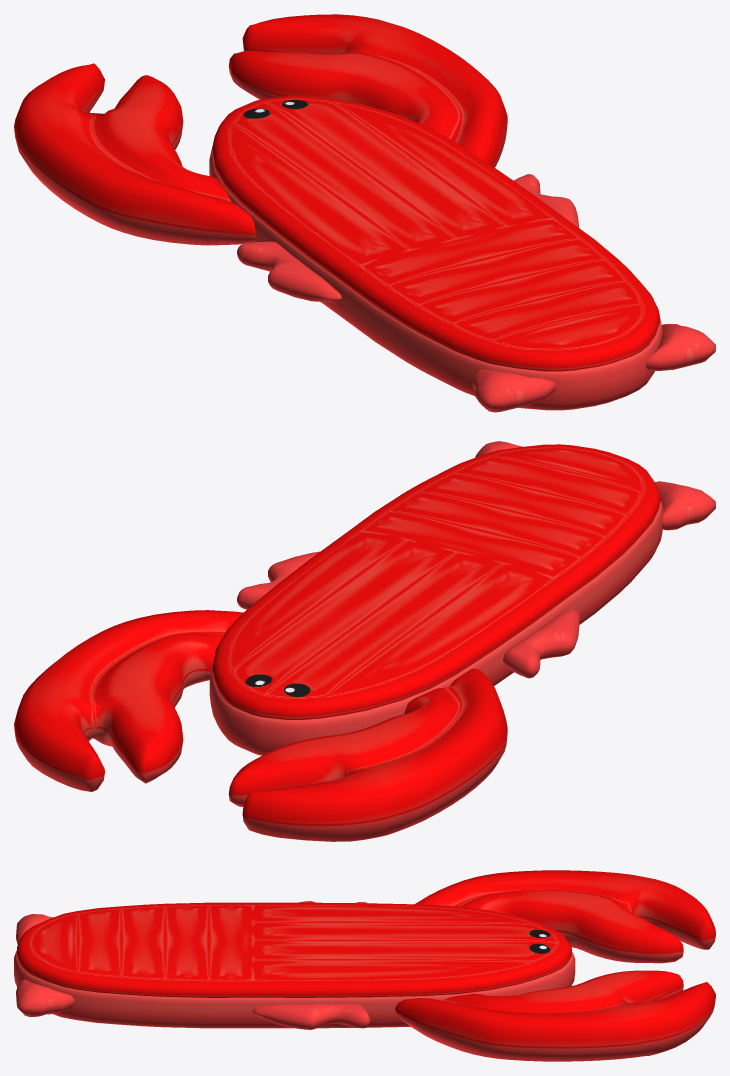
The model's file is PoolFloat05.FBX.
The picture shows the model from 3 angles, top to bottom: view 1: azimuth 30°, elevation 25°; view 2: azimuth 150°, elevation 25°; view 3: azimuth 270°, elevation 25°; orthographic projection. The views are drawn at different scales.
Parts seen in each view (by area): view 1: PoolFloat05; view 2: PoolFloat05; view 3: PoolFloat05.
Part boxes in pixels (x1,y1,x2,y2): PoolFloat05: (14,14,715,412); PoolFloat05: (14,441,715,841); PoolFloat05: (14,870,715,1061).
Size of what is drawn, in the model's own units: 1.41 by 0.1986 by 2.58.
